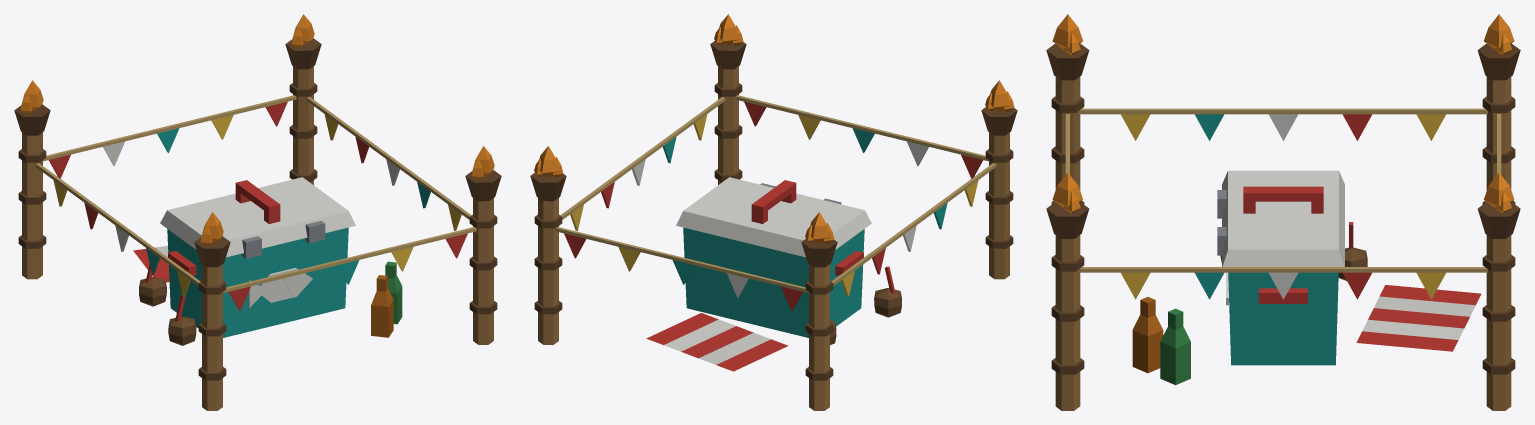
File: Decor_BeachBar_TikiCooler.fbx
3 renders of one model, left to right at view 1: azimuth 30°, elevation 25°; view 2: azimuth 150°, elevation 25°; view 3: azimuth 270°, elevation 25°, orthographic. The views are drawn at different scales.
Visible parts, largest first — view 1: TikiCooler_Body; view 2: TikiCooler_Body; view 3: TikiCooler_Body.
Boxes of the visible parts, x1,y1,x2,y2 form: TikiCooler_Body: (14, 14, 501, 410); TikiCooler_Body: (530, 14, 1017, 410); TikiCooler_Body: (1046, 14, 1520, 410).
Bounding box in the file's own units: 13.4 × 8.4 × 15.4.
